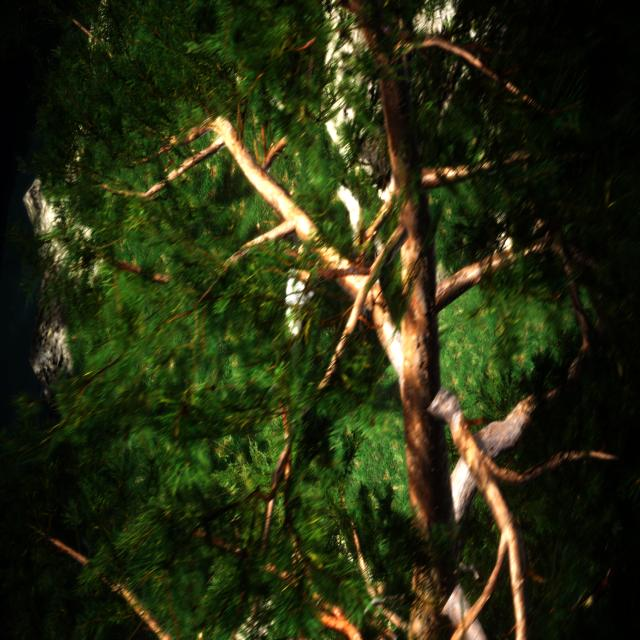Human: (280, 238, 318, 472)
